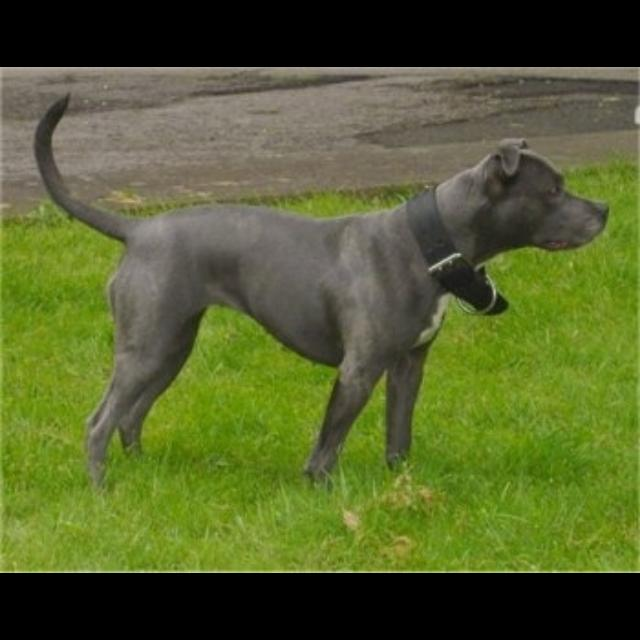staffford: (34, 92, 611, 494)
